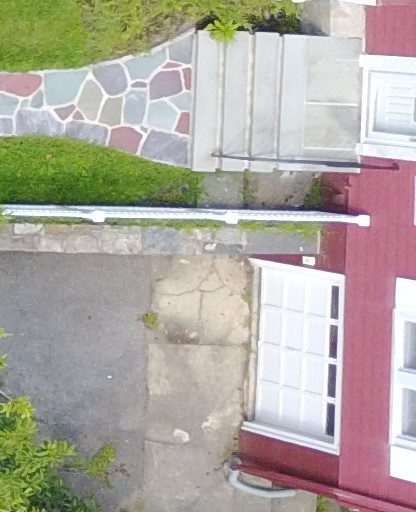gutter: (215, 462, 303, 507)
